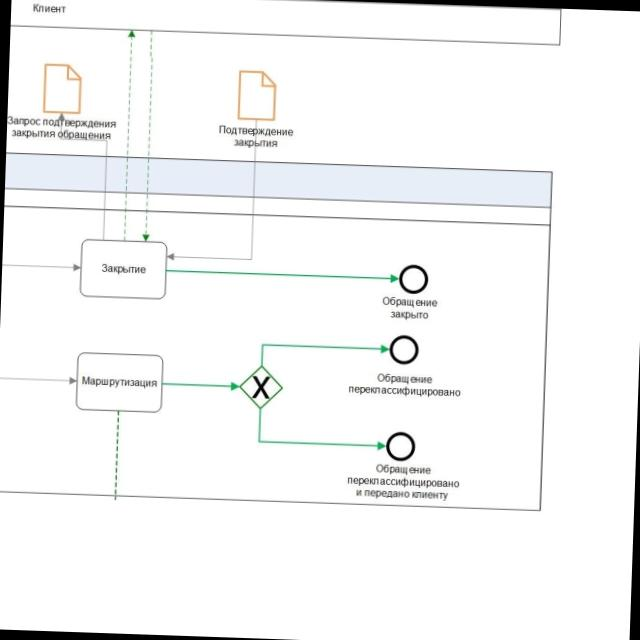arrow: (254, 408, 386, 452), (166, 263, 399, 285), (259, 338, 389, 370), (162, 377, 239, 393)
circle: (381, 427, 421, 466), (386, 331, 422, 368), (398, 264, 429, 295)
diamond: (238, 365, 283, 409)
rectangle: (80, 239, 168, 299), (76, 353, 163, 412)
text_region: (346, 462, 461, 502), (348, 371, 463, 398), (381, 295, 438, 322)
